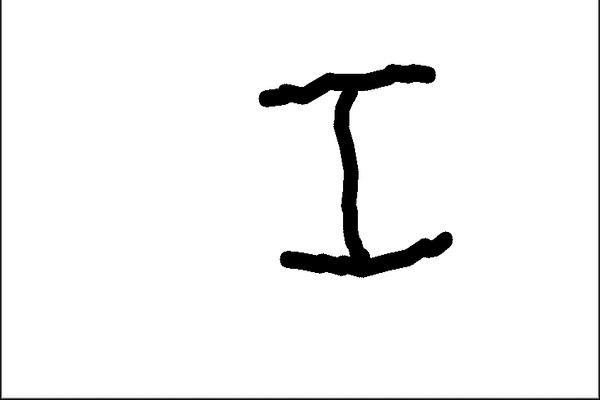i: (233, 55, 470, 281)
